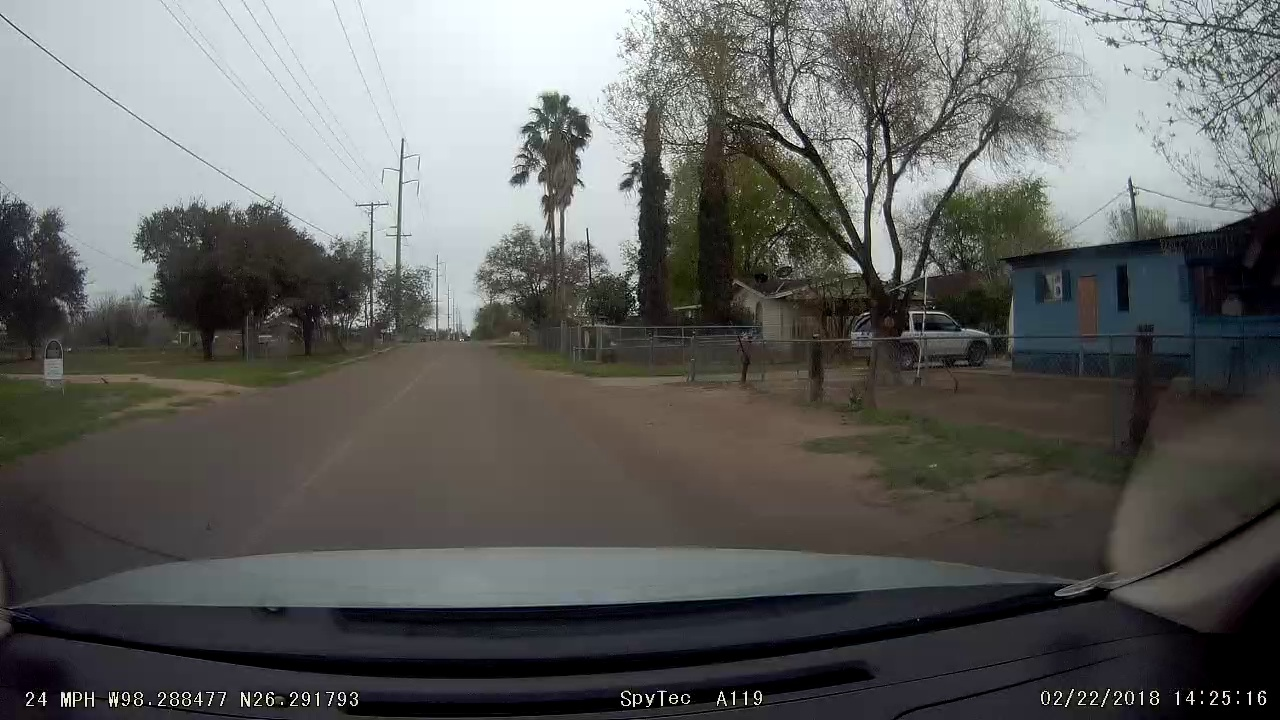blurredLine: (343, 372, 432, 461)
